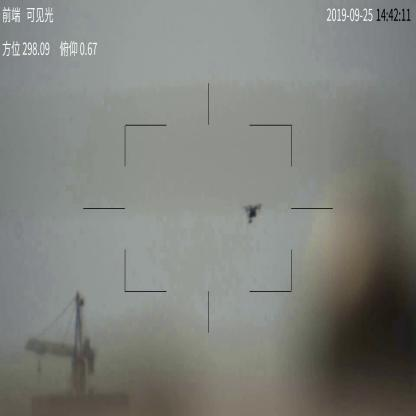uav: (242, 202, 264, 225)
